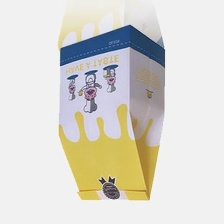snack: (42, 19, 172, 210)
